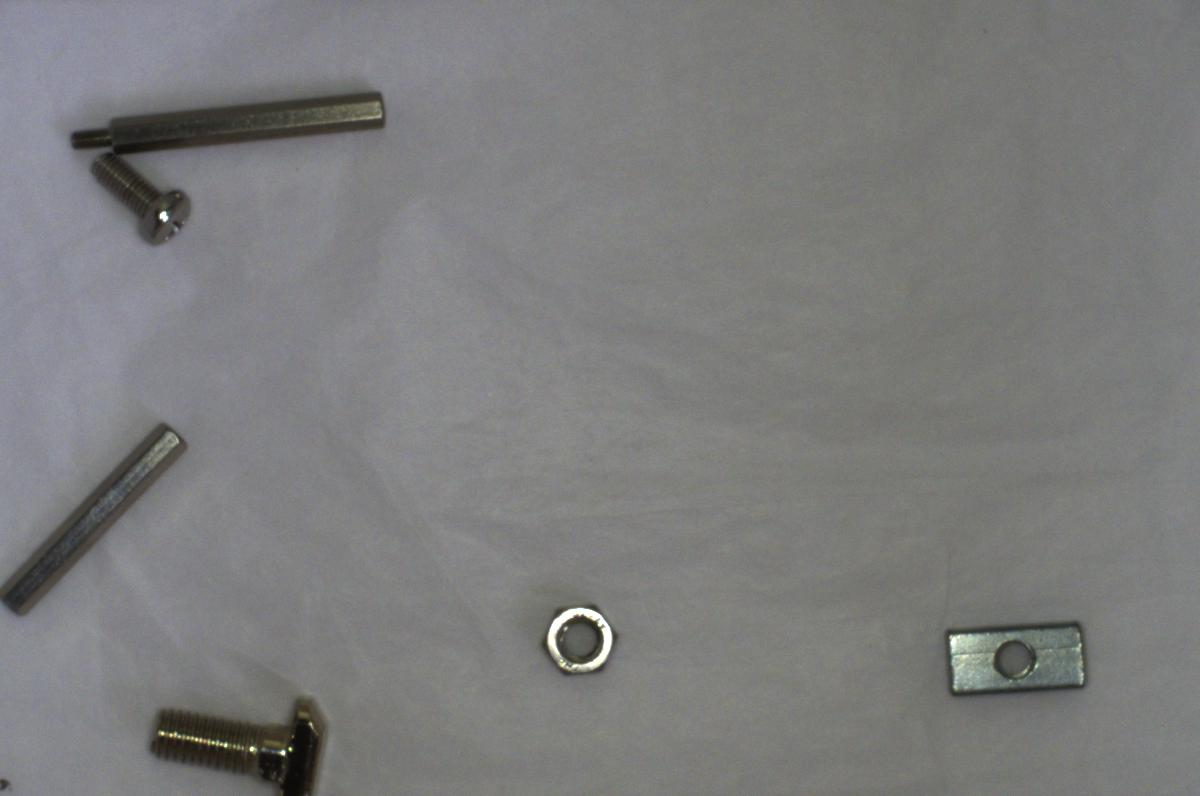Double hexagonal column: (2, 410, 191, 622)
Hexagon nut: (533, 596, 624, 680)
Hexagonal steel column: (66, 82, 394, 155)
Rectangular nut: (935, 619, 1101, 699)
Round head screw: (81, 149, 194, 248)
T-shaped screw: (144, 680, 340, 794)
